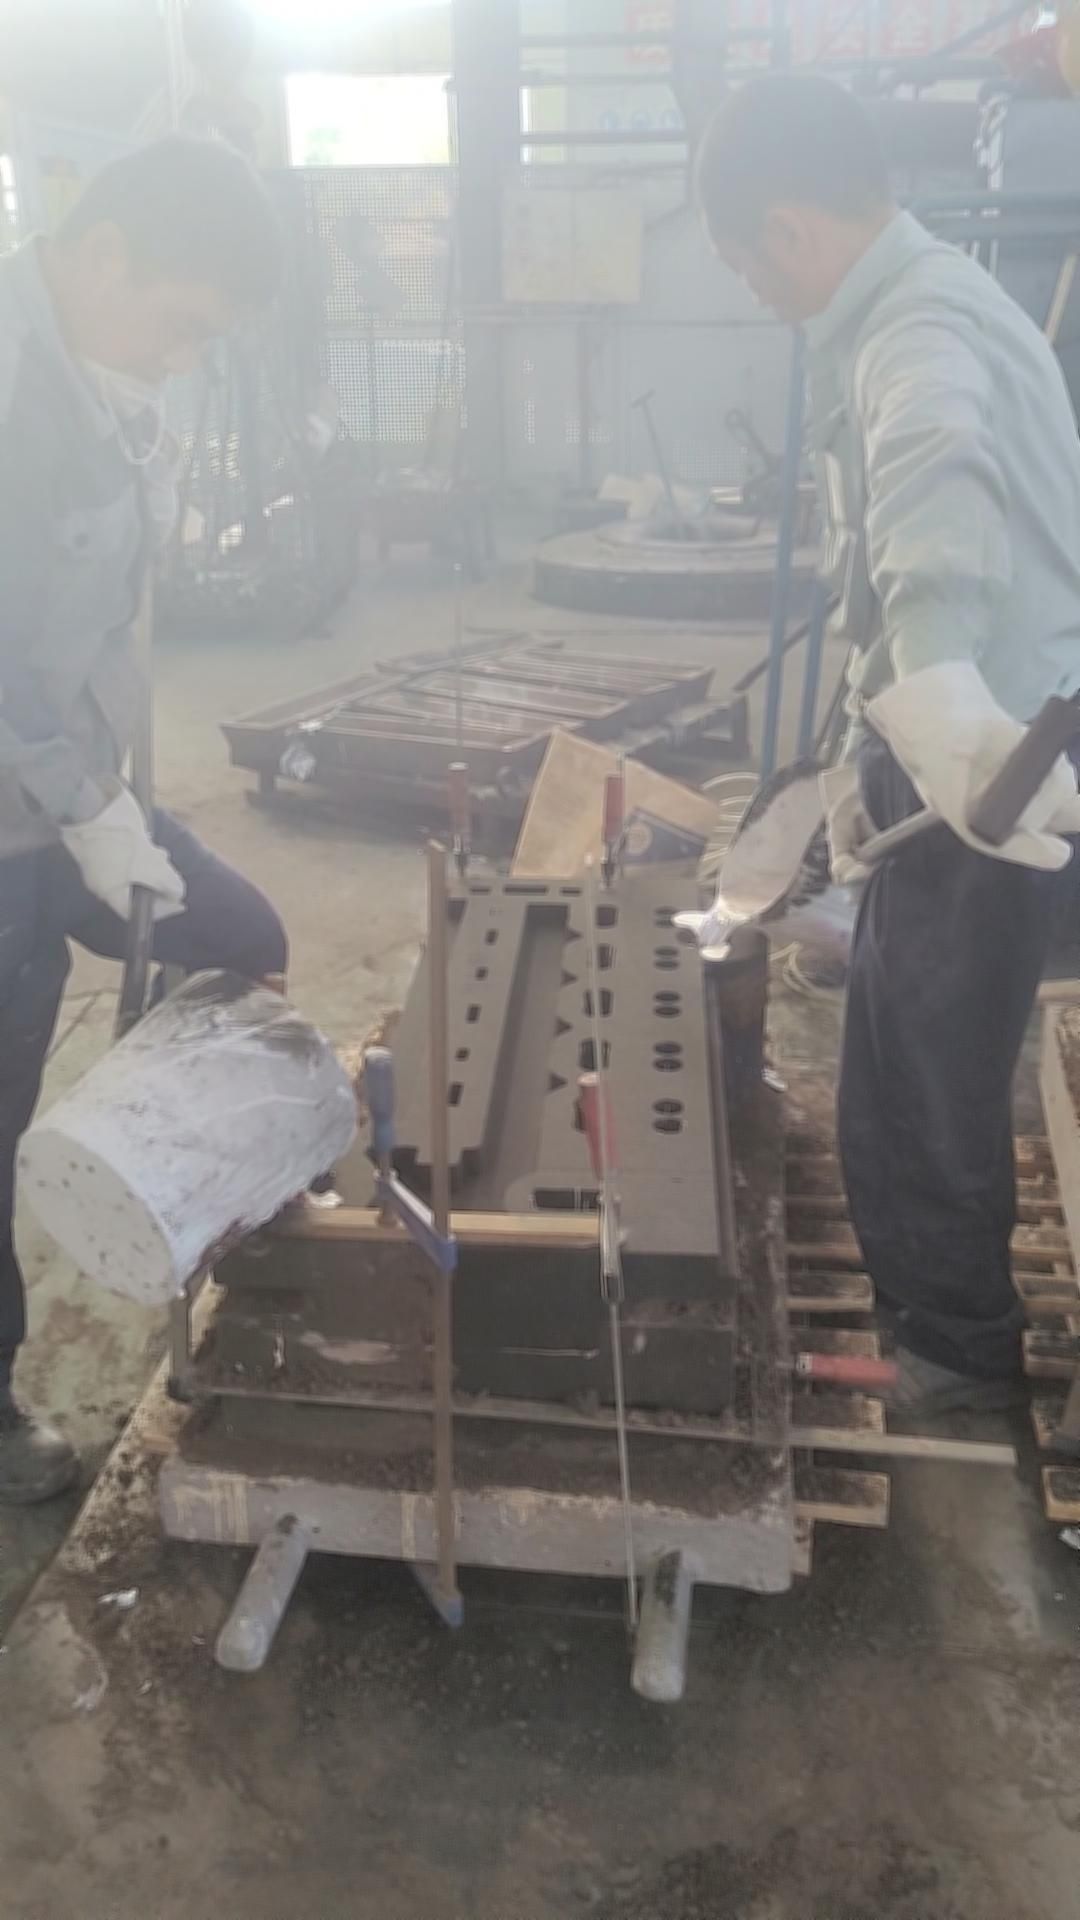pouring hole: (272, 1174, 334, 1211), (676, 922, 732, 949)
